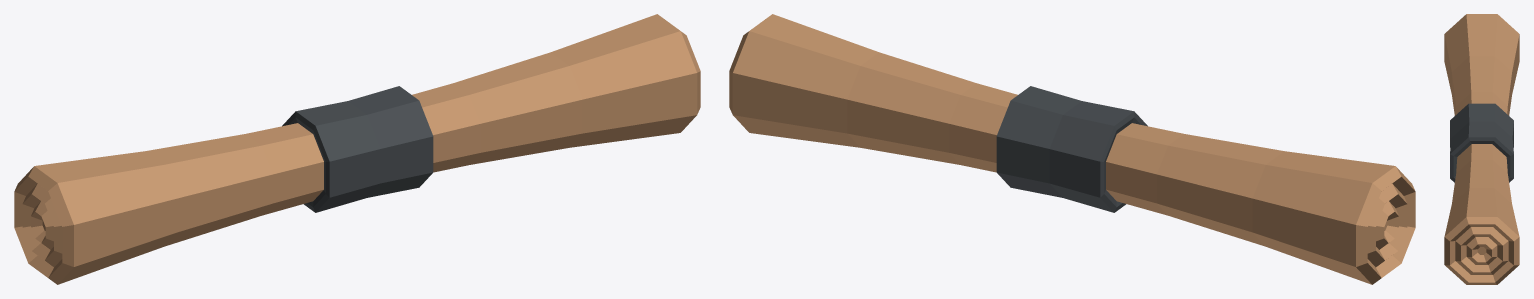
File: Scroll_01.fbx
3 views of the same model, side by side, from view 1: azimuth 30°, elevation 25°; view 2: azimuth 150°, elevation 25°; view 3: azimuth 270°, elevation 25° (orthographic). The views are drawn at different scales.
Visible parts, largest first — view 1: Scroll_01; view 2: Scroll_01; view 3: Scroll_01.
Boxes of the visible parts, x1,y1,x2,y2 form: Scroll_01: [14, 14, 700, 284]; Scroll_01: [729, 14, 1415, 284]; Scroll_01: [1444, 14, 1519, 284].
Size of the model in its own units: 43.41 by 6.62 by 6.62.
